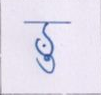u_matra: (36, 55, 58, 75)
